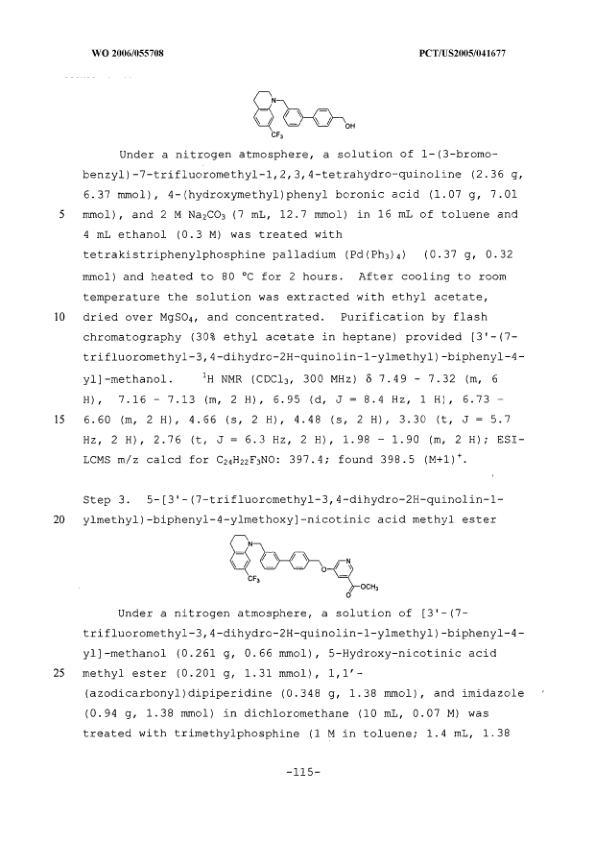compound-structure: (209, 530, 391, 604), (246, 85, 360, 145)
